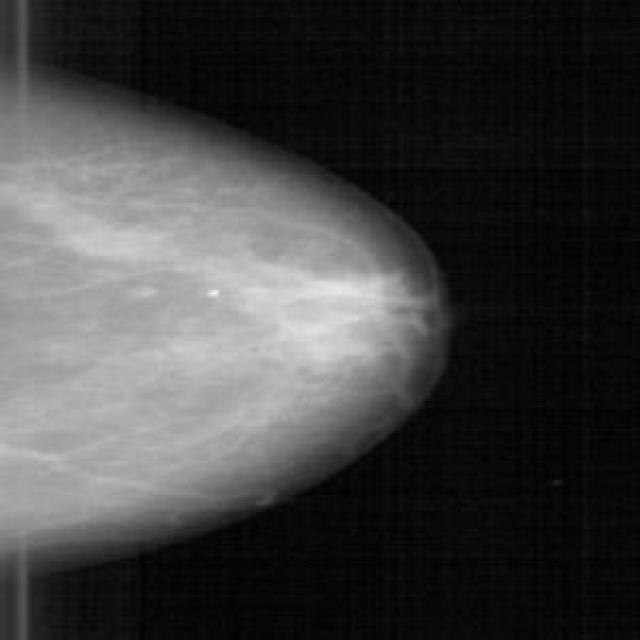tumor: (188, 251, 429, 398)
